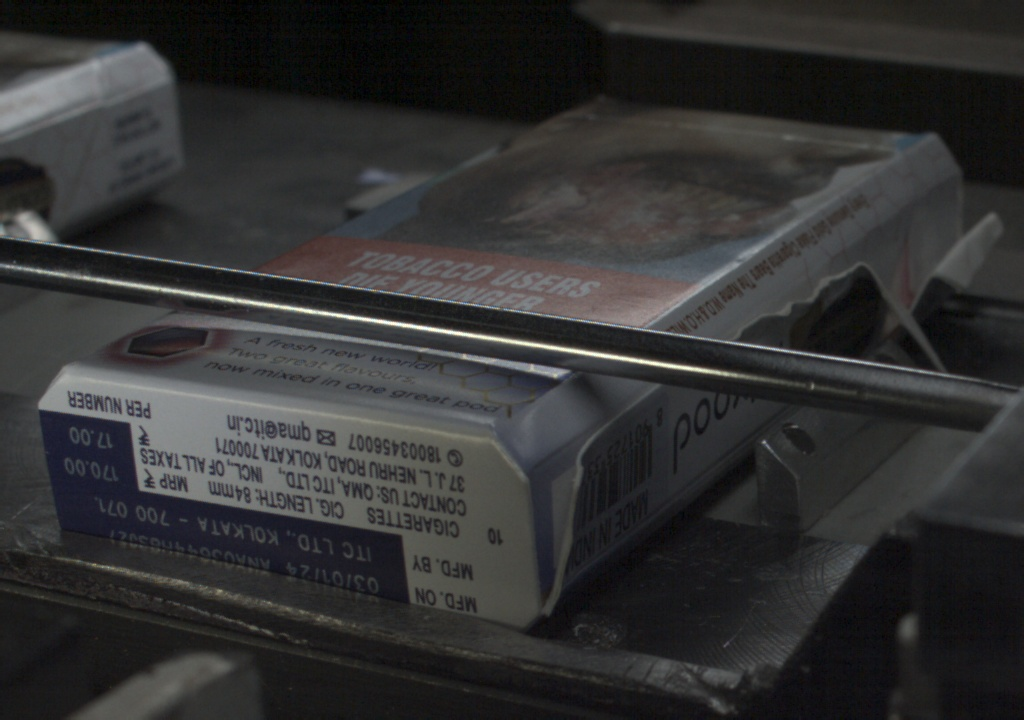g_bottom: (37, 380, 526, 631)
g_label: (52, 492, 409, 603)
ng_lmiter: (539, 430, 598, 621), (856, 253, 945, 358), (746, 269, 833, 332)
ng_miter: (925, 203, 1005, 296)
price: (45, 419, 137, 492)
